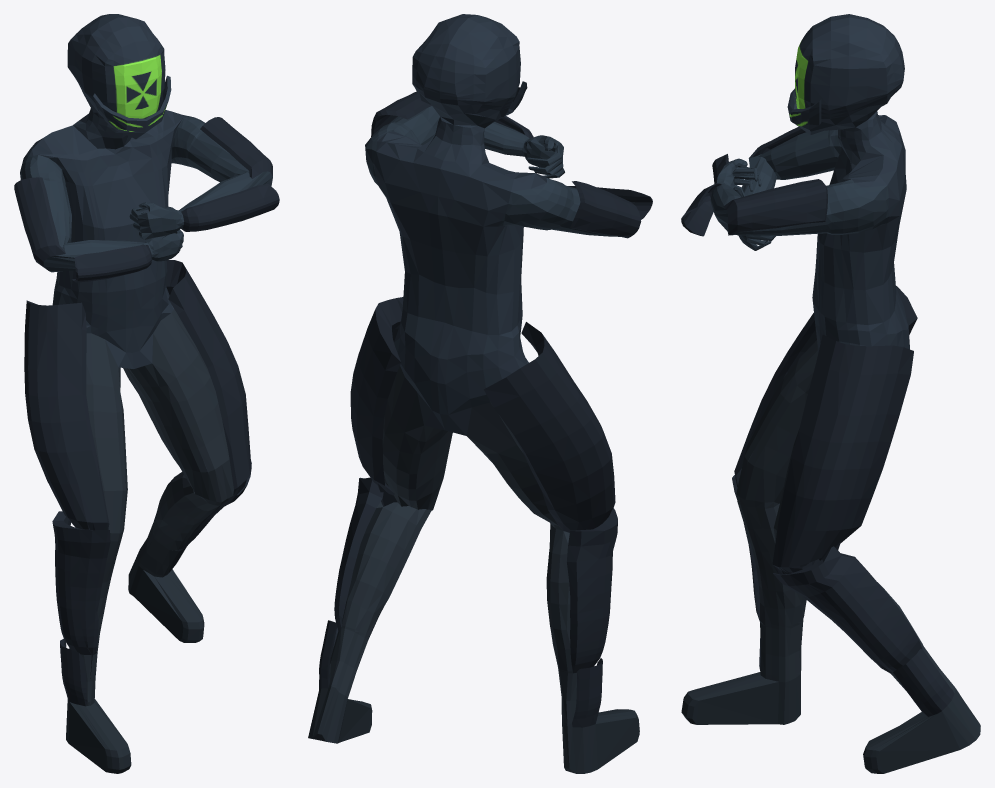
Rendered from Bastion_WF_000009.obj.
3 views of the same model, side by side, from view 1: azimuth 30°, elevation 25°; view 2: azimuth 150°, elevation 25°; view 3: azimuth 270°, elevation 25° (orthographic). The views are drawn at different scales.
Parts seen in each view (by area): view 1: Cube.002; view 2: Cube.002; view 3: Cube.002.
Boxes of the visible parts, x1,y1,x2,y2 form: Cube.002: [14, 14, 279, 773]; Cube.002: [308, 14, 652, 773]; Cube.002: [681, 14, 980, 773].
Bounding box in the file's own units: 1.35 × 3.76 × 1.38.
